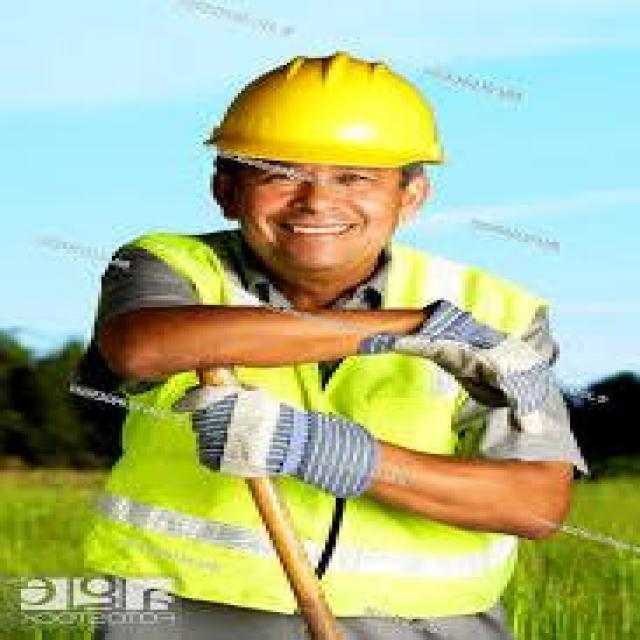reflective_jacket: (70, 244, 549, 630)
safety_helmet: (195, 46, 458, 179)
